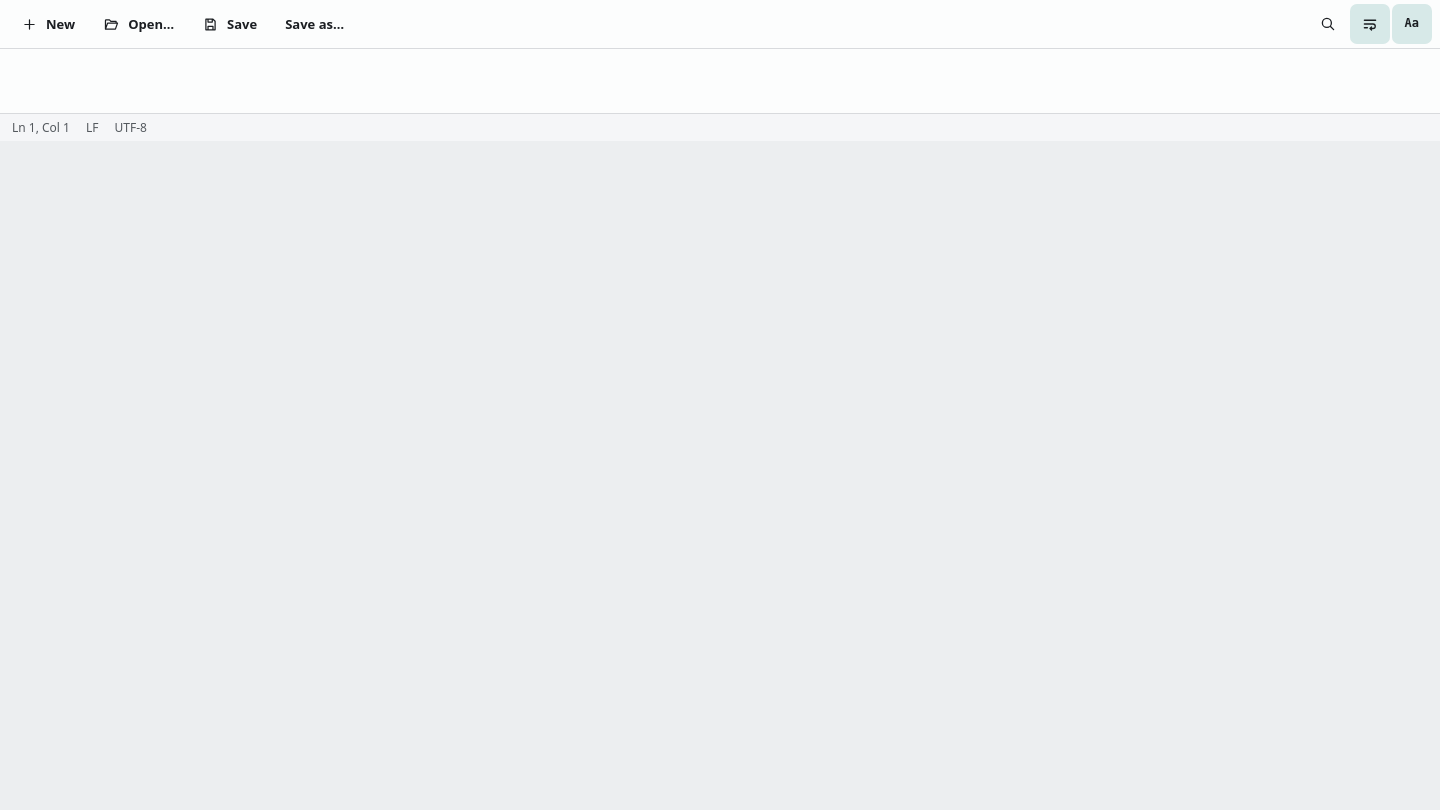
Test case: Notes › tabs › cancelling one question keeps the window open
Step 1. Type "one" into the text box named "Text of" → (720, 81), box [0, 49, 1439, 113]
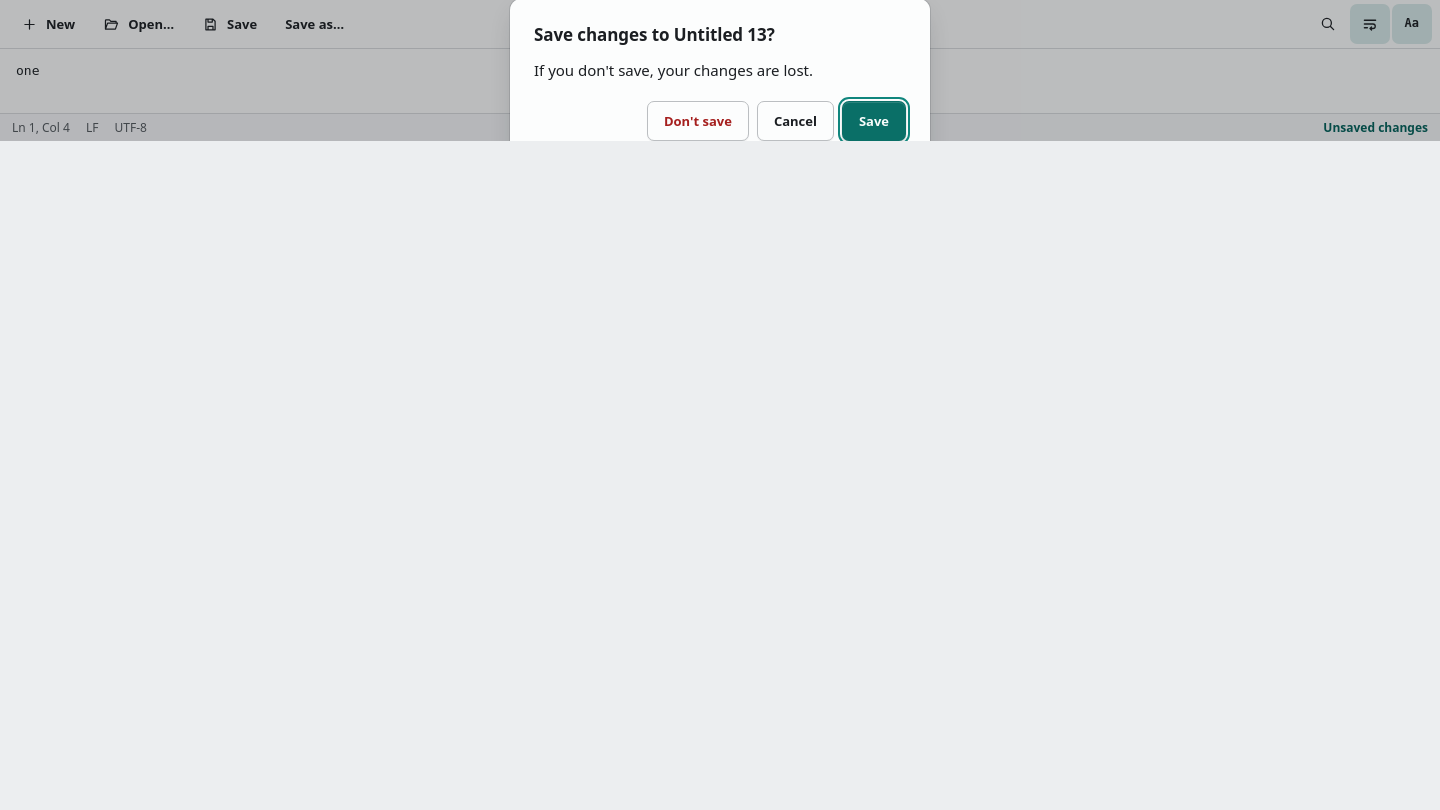
Step 2. Click the button "Cancel" → (795, 121), box [757, 101, 834, 141]
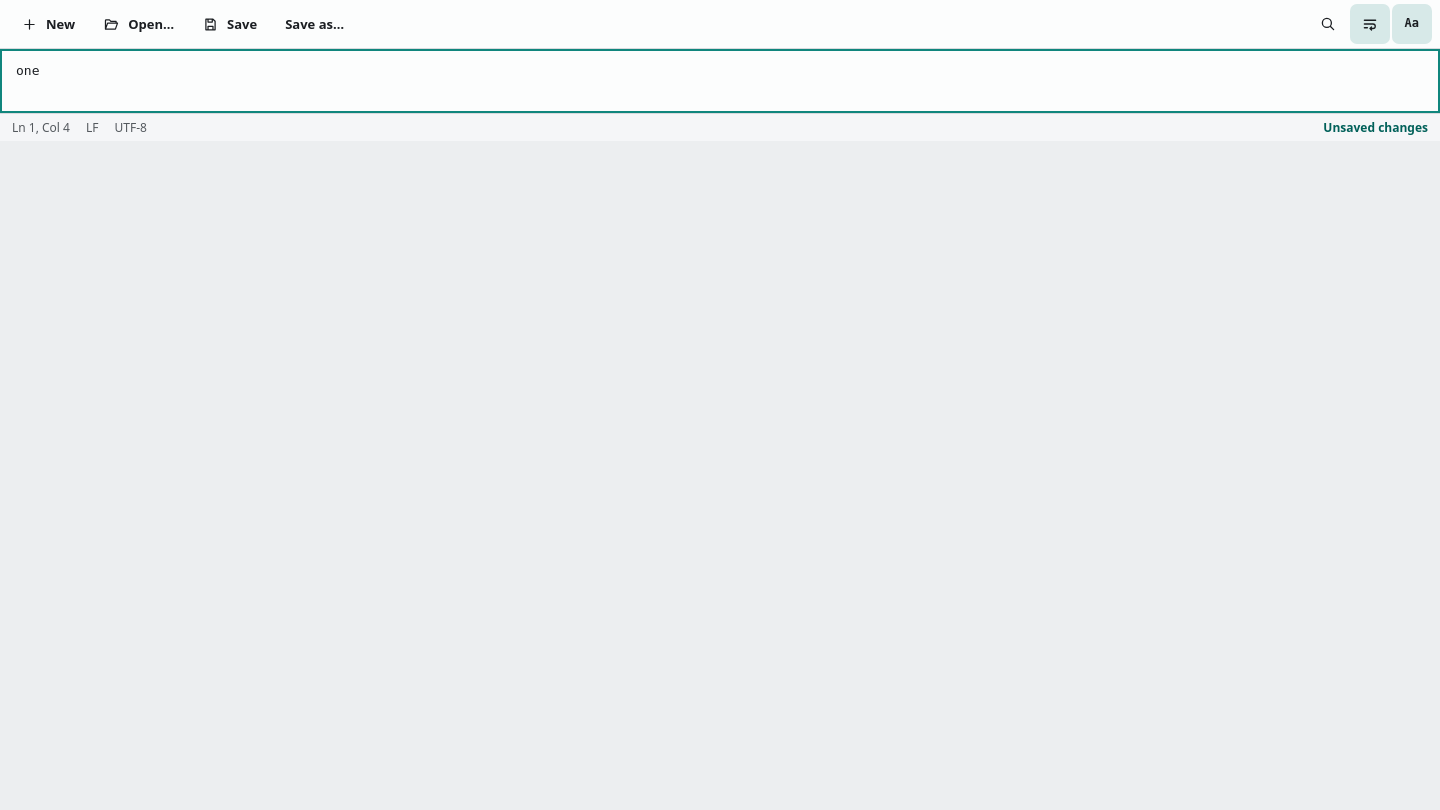
Now the dialog is gone
